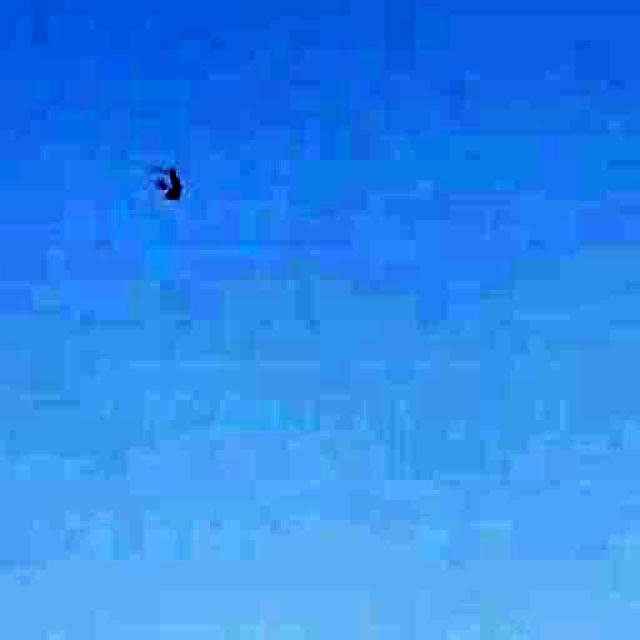drone: (124, 136, 222, 218)
